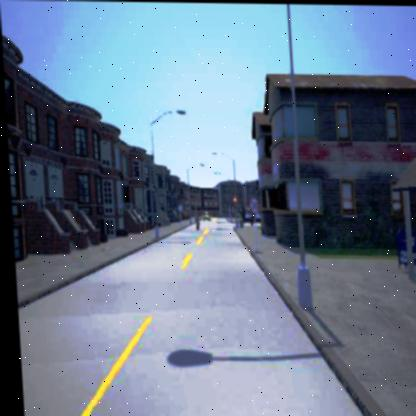motobike: (191, 212, 197, 228)
